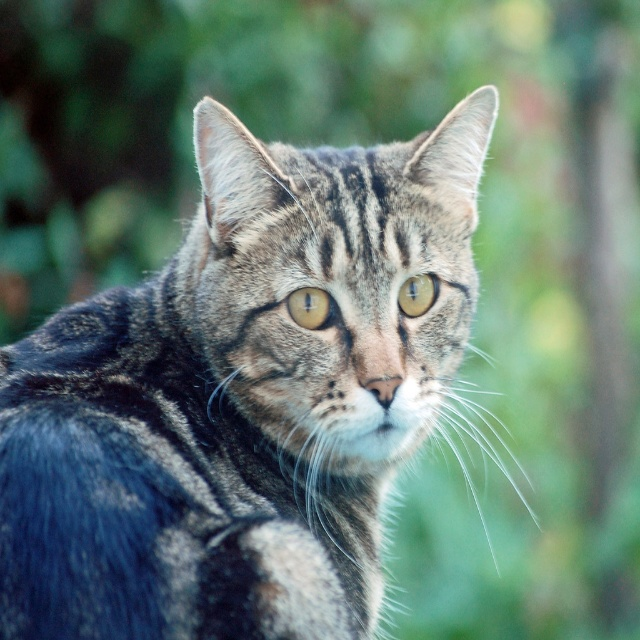Lynx: (1, 79, 543, 639)
